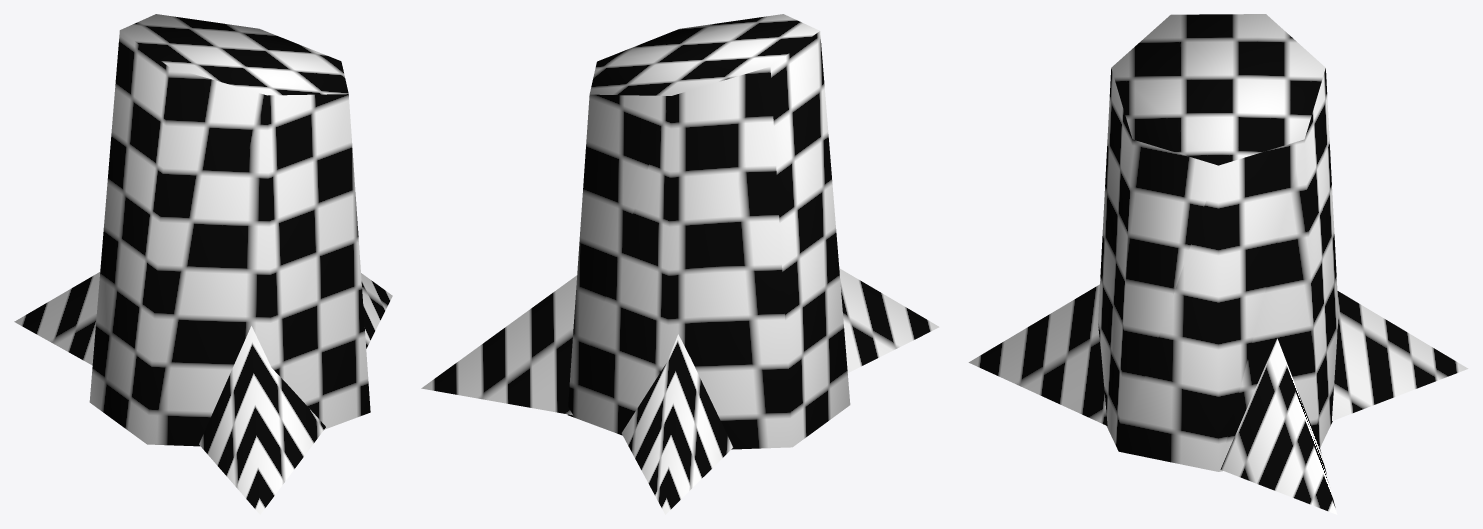
Rendered from nafltr85.dae.
The picture shows the model from 3 angles, left to right: view 1: azimuth 30°, elevation 25°; view 2: azimuth 150°, elevation 25°; view 3: azimuth 270°, elevation 25°; orthographic projection. The views are drawn at different scales.
Visible parts, largest first — view 1: empty; view 2: empty; view 3: empty.
Boxes of the visible parts, left/top/right/bottom form: empty: left=14, top=14, right=392, bottom=514; empty: left=421, top=14, right=939, bottom=514; empty: left=968, top=14, right=1468, bottom=514.
Size of the model in its own units: 0.7758 by 1.04 by 0.8137.
1 material, 1 textured.
